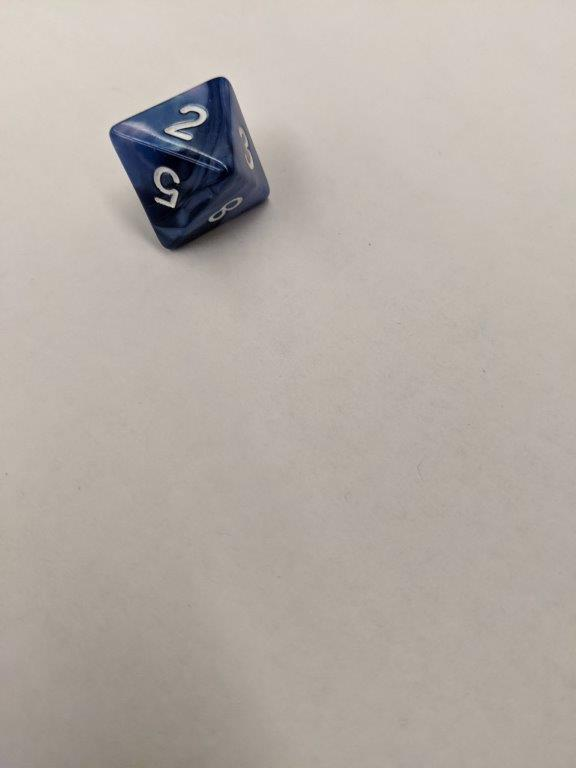d8-2: (110, 75, 273, 252)
